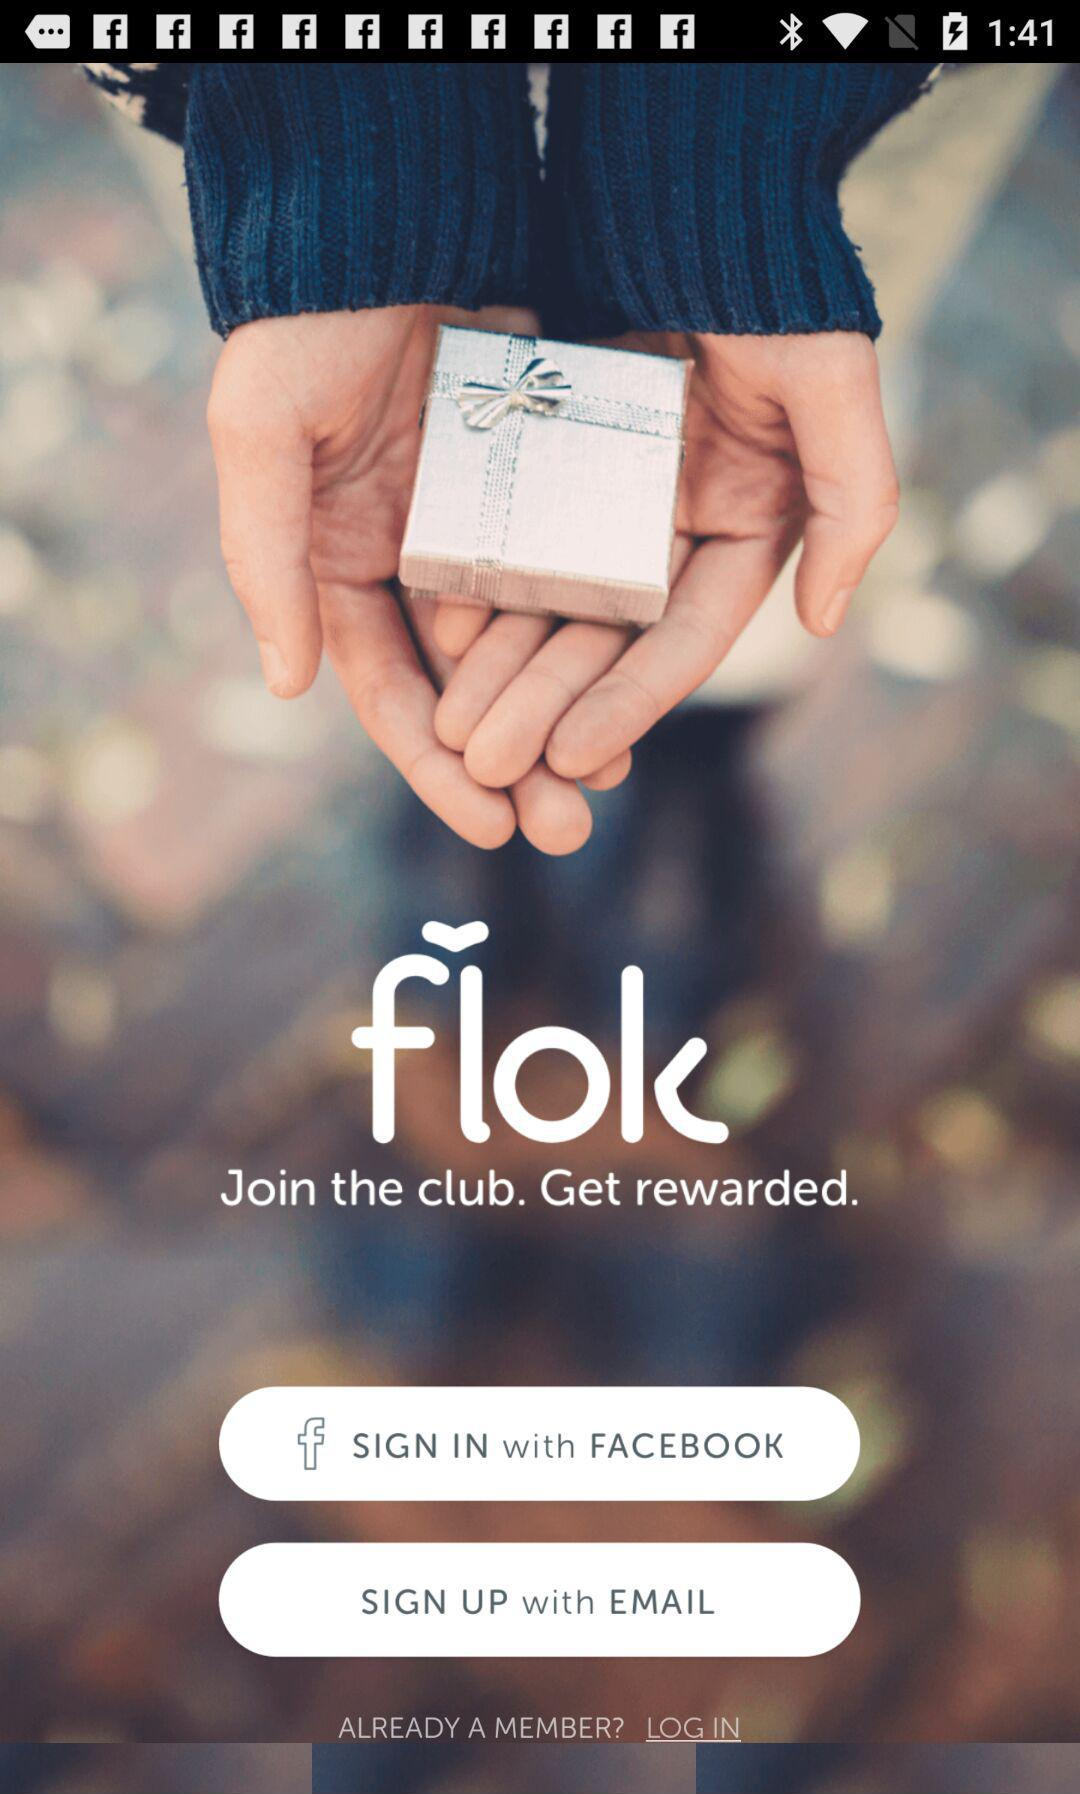BackgroundImage: (1, 64, 1080, 1794)
Image: (350, 920, 730, 1146)
Text: (219, 1167, 860, 1208), (338, 1716, 625, 1740), (644, 1716, 742, 1744)
TextButton: (219, 1542, 862, 1658), (219, 1387, 861, 1502)
UpperTaskBar: (1, 1, 1080, 64)
